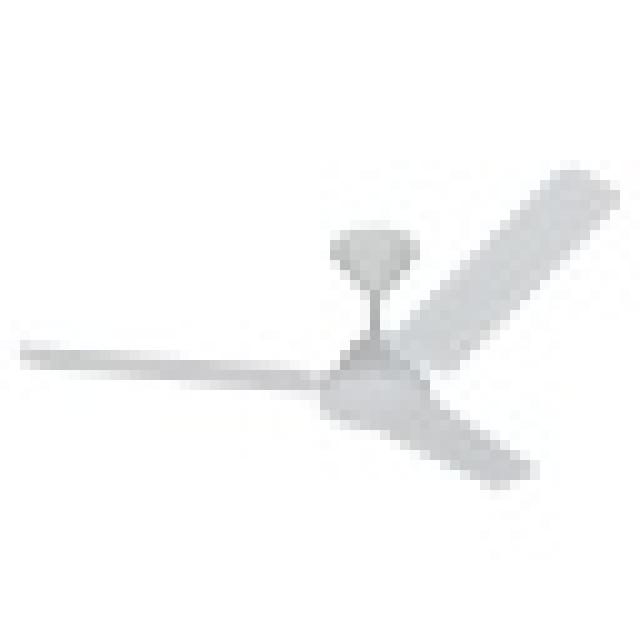Bulb: (25, 183, 640, 488)
